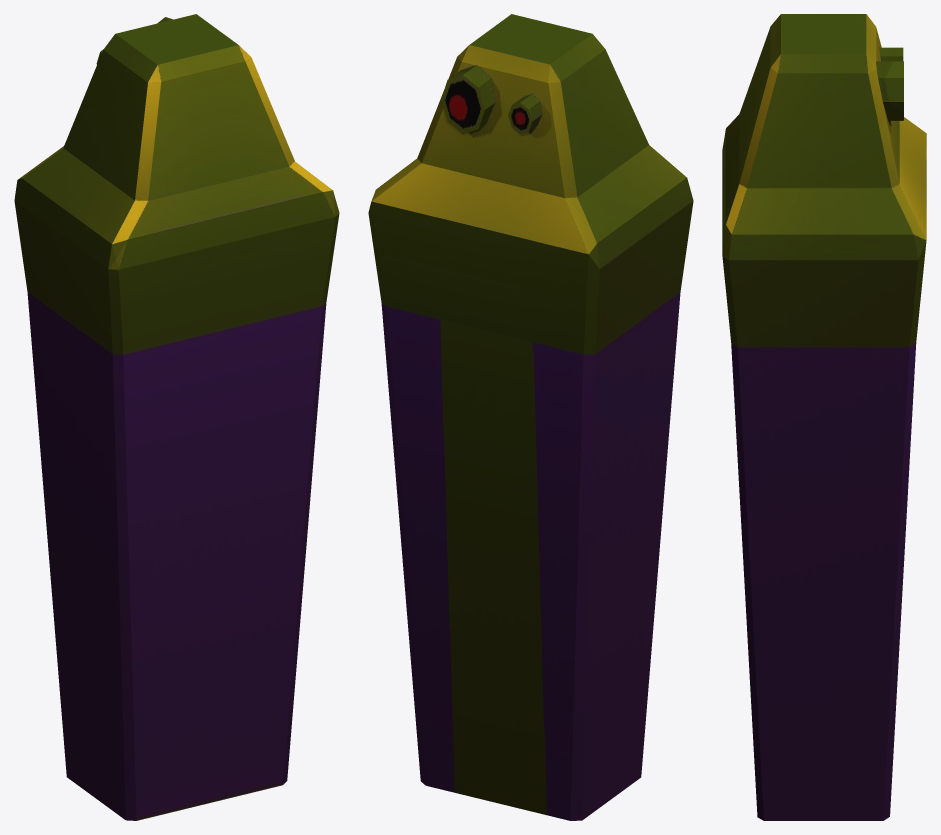
The model's file is superworker7.dae.
The picture shows the model from 3 angles, left to right: view 1: azimuth 30°, elevation 25°; view 2: azimuth 150°, elevation 25°; view 3: azimuth 270°, elevation 25°; orthographic projection.
Visible parts, largest first — view 1: worker; view 2: worker; view 3: worker.
Part boxes in pixels (x1,y1,x2,y2): worker: (14, 14, 339, 820); worker: (368, 14, 693, 820); worker: (722, 14, 926, 820).
Bounding box in the file's own units: 1.97 × 1.49 × 6.02.
1 material, 1 textured.
